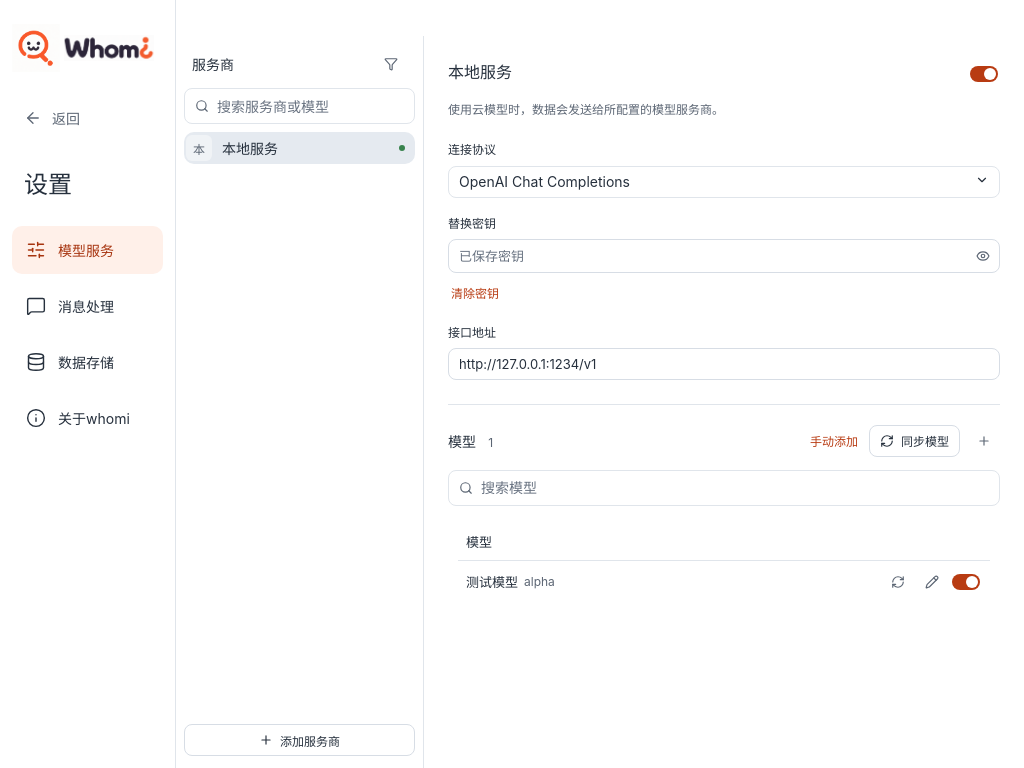
Test: 正式设置 › 关闭同步抽屉保留服务商配置和已保存模型
Step 1. Click the button "同步模型" → click(914, 441), box [869,425,960,457]
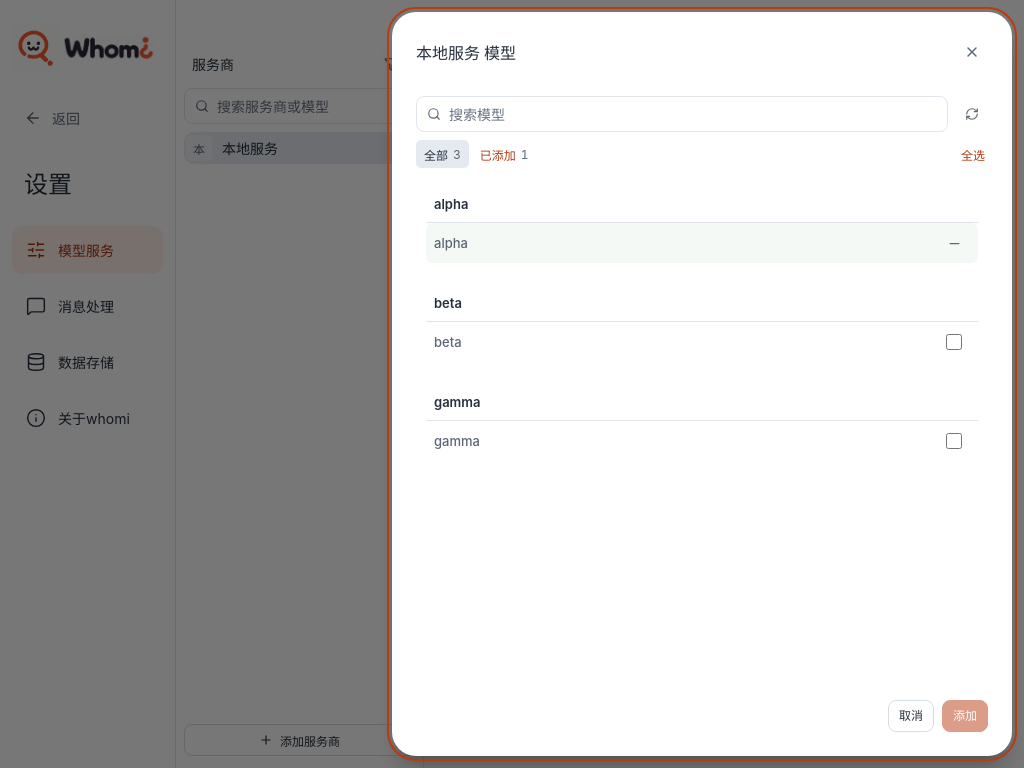
Check: the checkbox named "选择beta" is shown, box [946,334,962,350]
Step 2. Click the button named "关闭本地服务 模型" → click(972, 52), box [956,36,988,68]
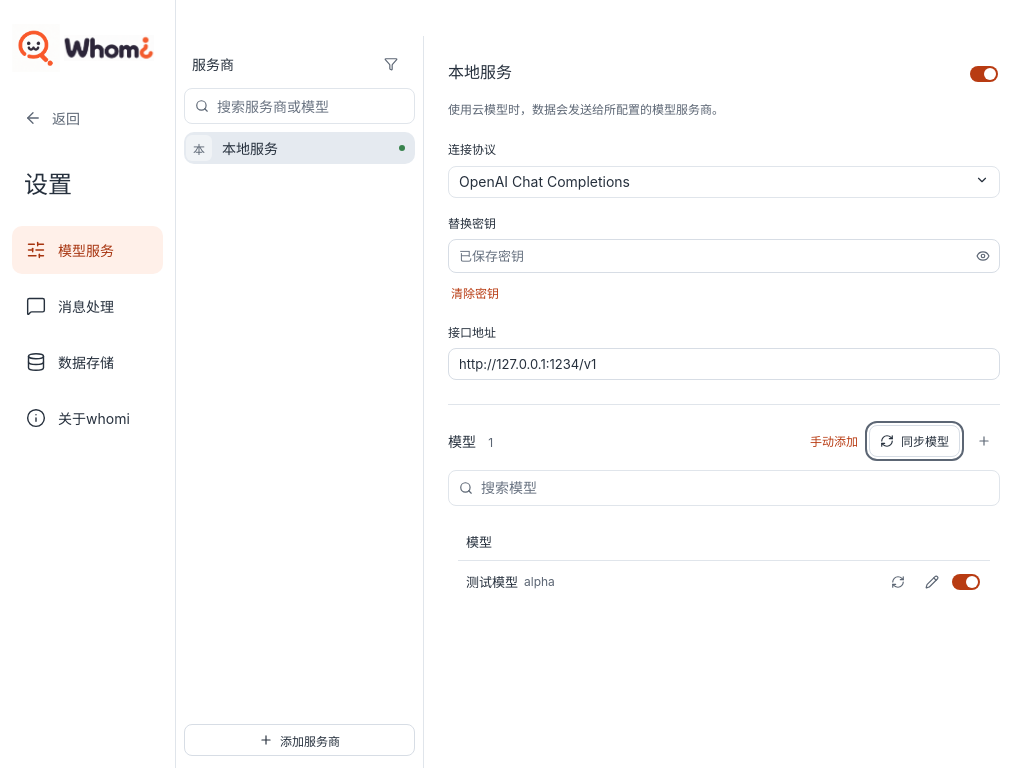
Check: the field labelled "接口地址" holds "http://127.0.0.1:1234/v1", box [448,348,1000,380]
Check: the dialog is gone
